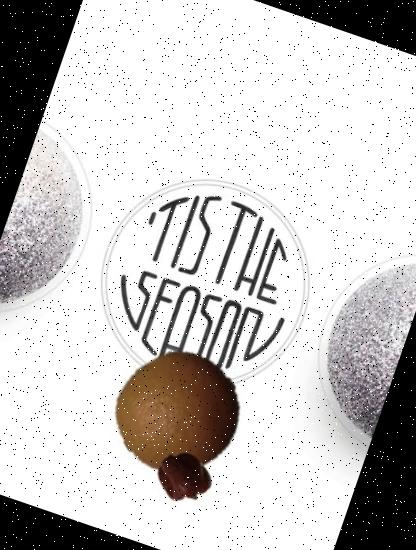Orange: (98, 333, 258, 493)
Pepper: (151, 444, 218, 510)
